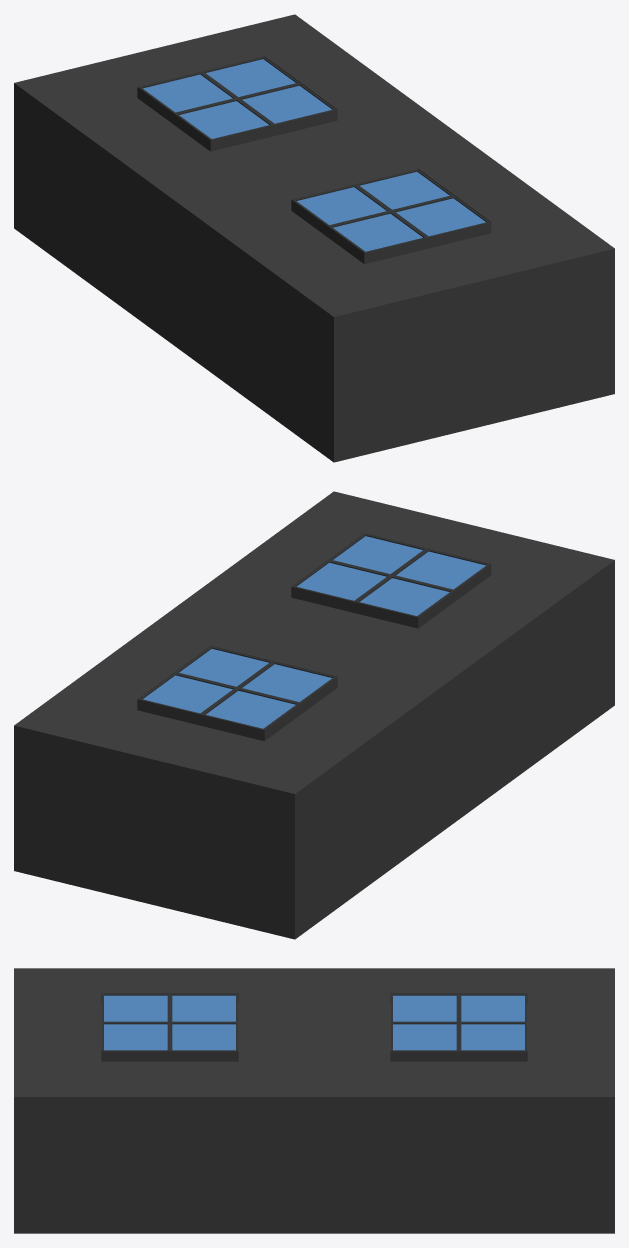
File: Room.fbx
3 renders of one model, top to bottom at view 1: azimuth 30°, elevation 25°; view 2: azimuth 150°, elevation 25°; view 3: azimuth 270°, elevation 25°, orthographic. The views are drawn at different scales.
Visible parts, largest first — view 1: Layer, Glass, Windows; view 2: Layer, Glass, Windows; view 3: Layer, Glass, Windows.
Boxes of the visible parts, <box> form: Layer: <box>14,14,614,462</box>; Glass: <box>143,59,485,251</box>; Windows: <box>138,56,490,252</box>; Layer: <box>14,491,614,939</box>; Glass: <box>143,536,485,728</box>; Windows: <box>138,533,490,729</box>; Layer: <box>14,968,614,1233</box>; Glass: <box>104,995,524,1050</box>; Windows: <box>101,993,527,1051</box>.
Size of the model in its own units: 844 by 449 by 1663.
